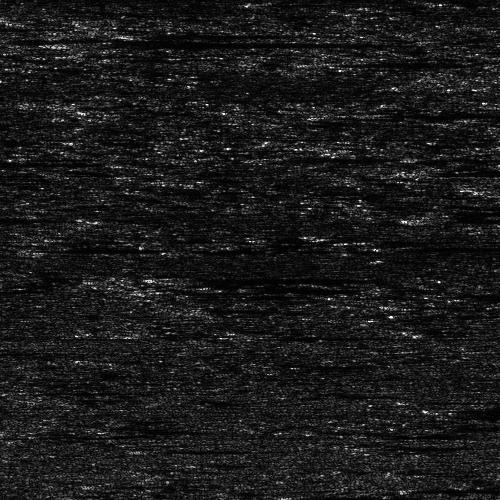object: (0, 35, 157, 50), (362, 162, 467, 177), (206, 152, 331, 161), (124, 285, 217, 296), (400, 211, 463, 226), (97, 31, 180, 40), (0, 33, 49, 48), (297, 58, 370, 67), (25, 243, 78, 254), (0, 153, 37, 168), (178, 304, 219, 315), (351, 111, 414, 116), (166, 275, 197, 278)
shadow: (73, 35, 373, 50), (0, 33, 253, 48), (170, 285, 385, 296), (415, 162, 500, 177), (52, 243, 156, 254), (268, 152, 382, 161), (432, 211, 500, 226), (333, 58, 444, 67), (138, 31, 241, 40), (0, 153, 49, 168), (383, 111, 500, 116), (199, 304, 252, 315), (182, 275, 346, 278)
